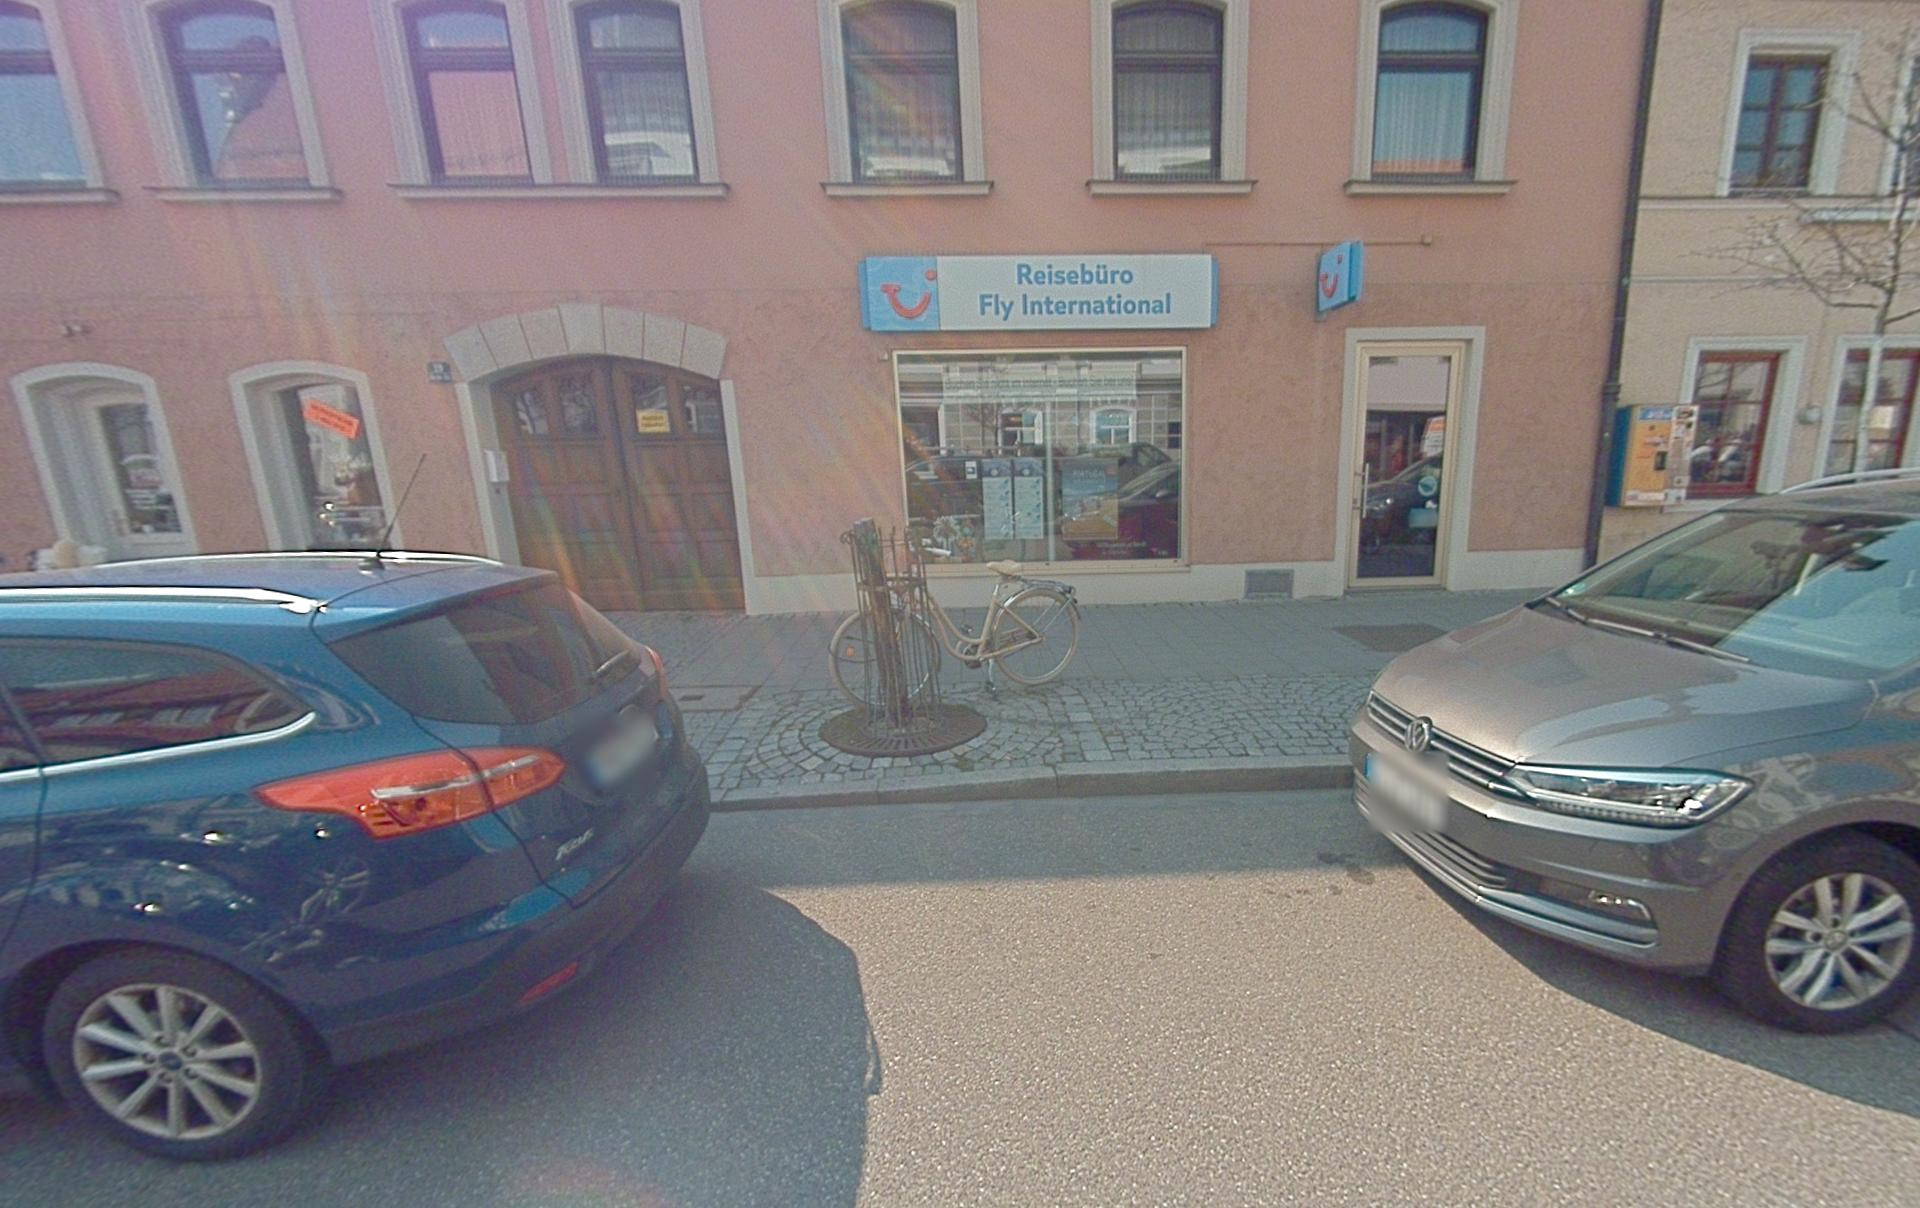car: (0, 544, 712, 1162), (1348, 468, 1919, 1035), (1057, 461, 1181, 559), (1361, 452, 1443, 551)
traffic sign: (858, 252, 1219, 333)
